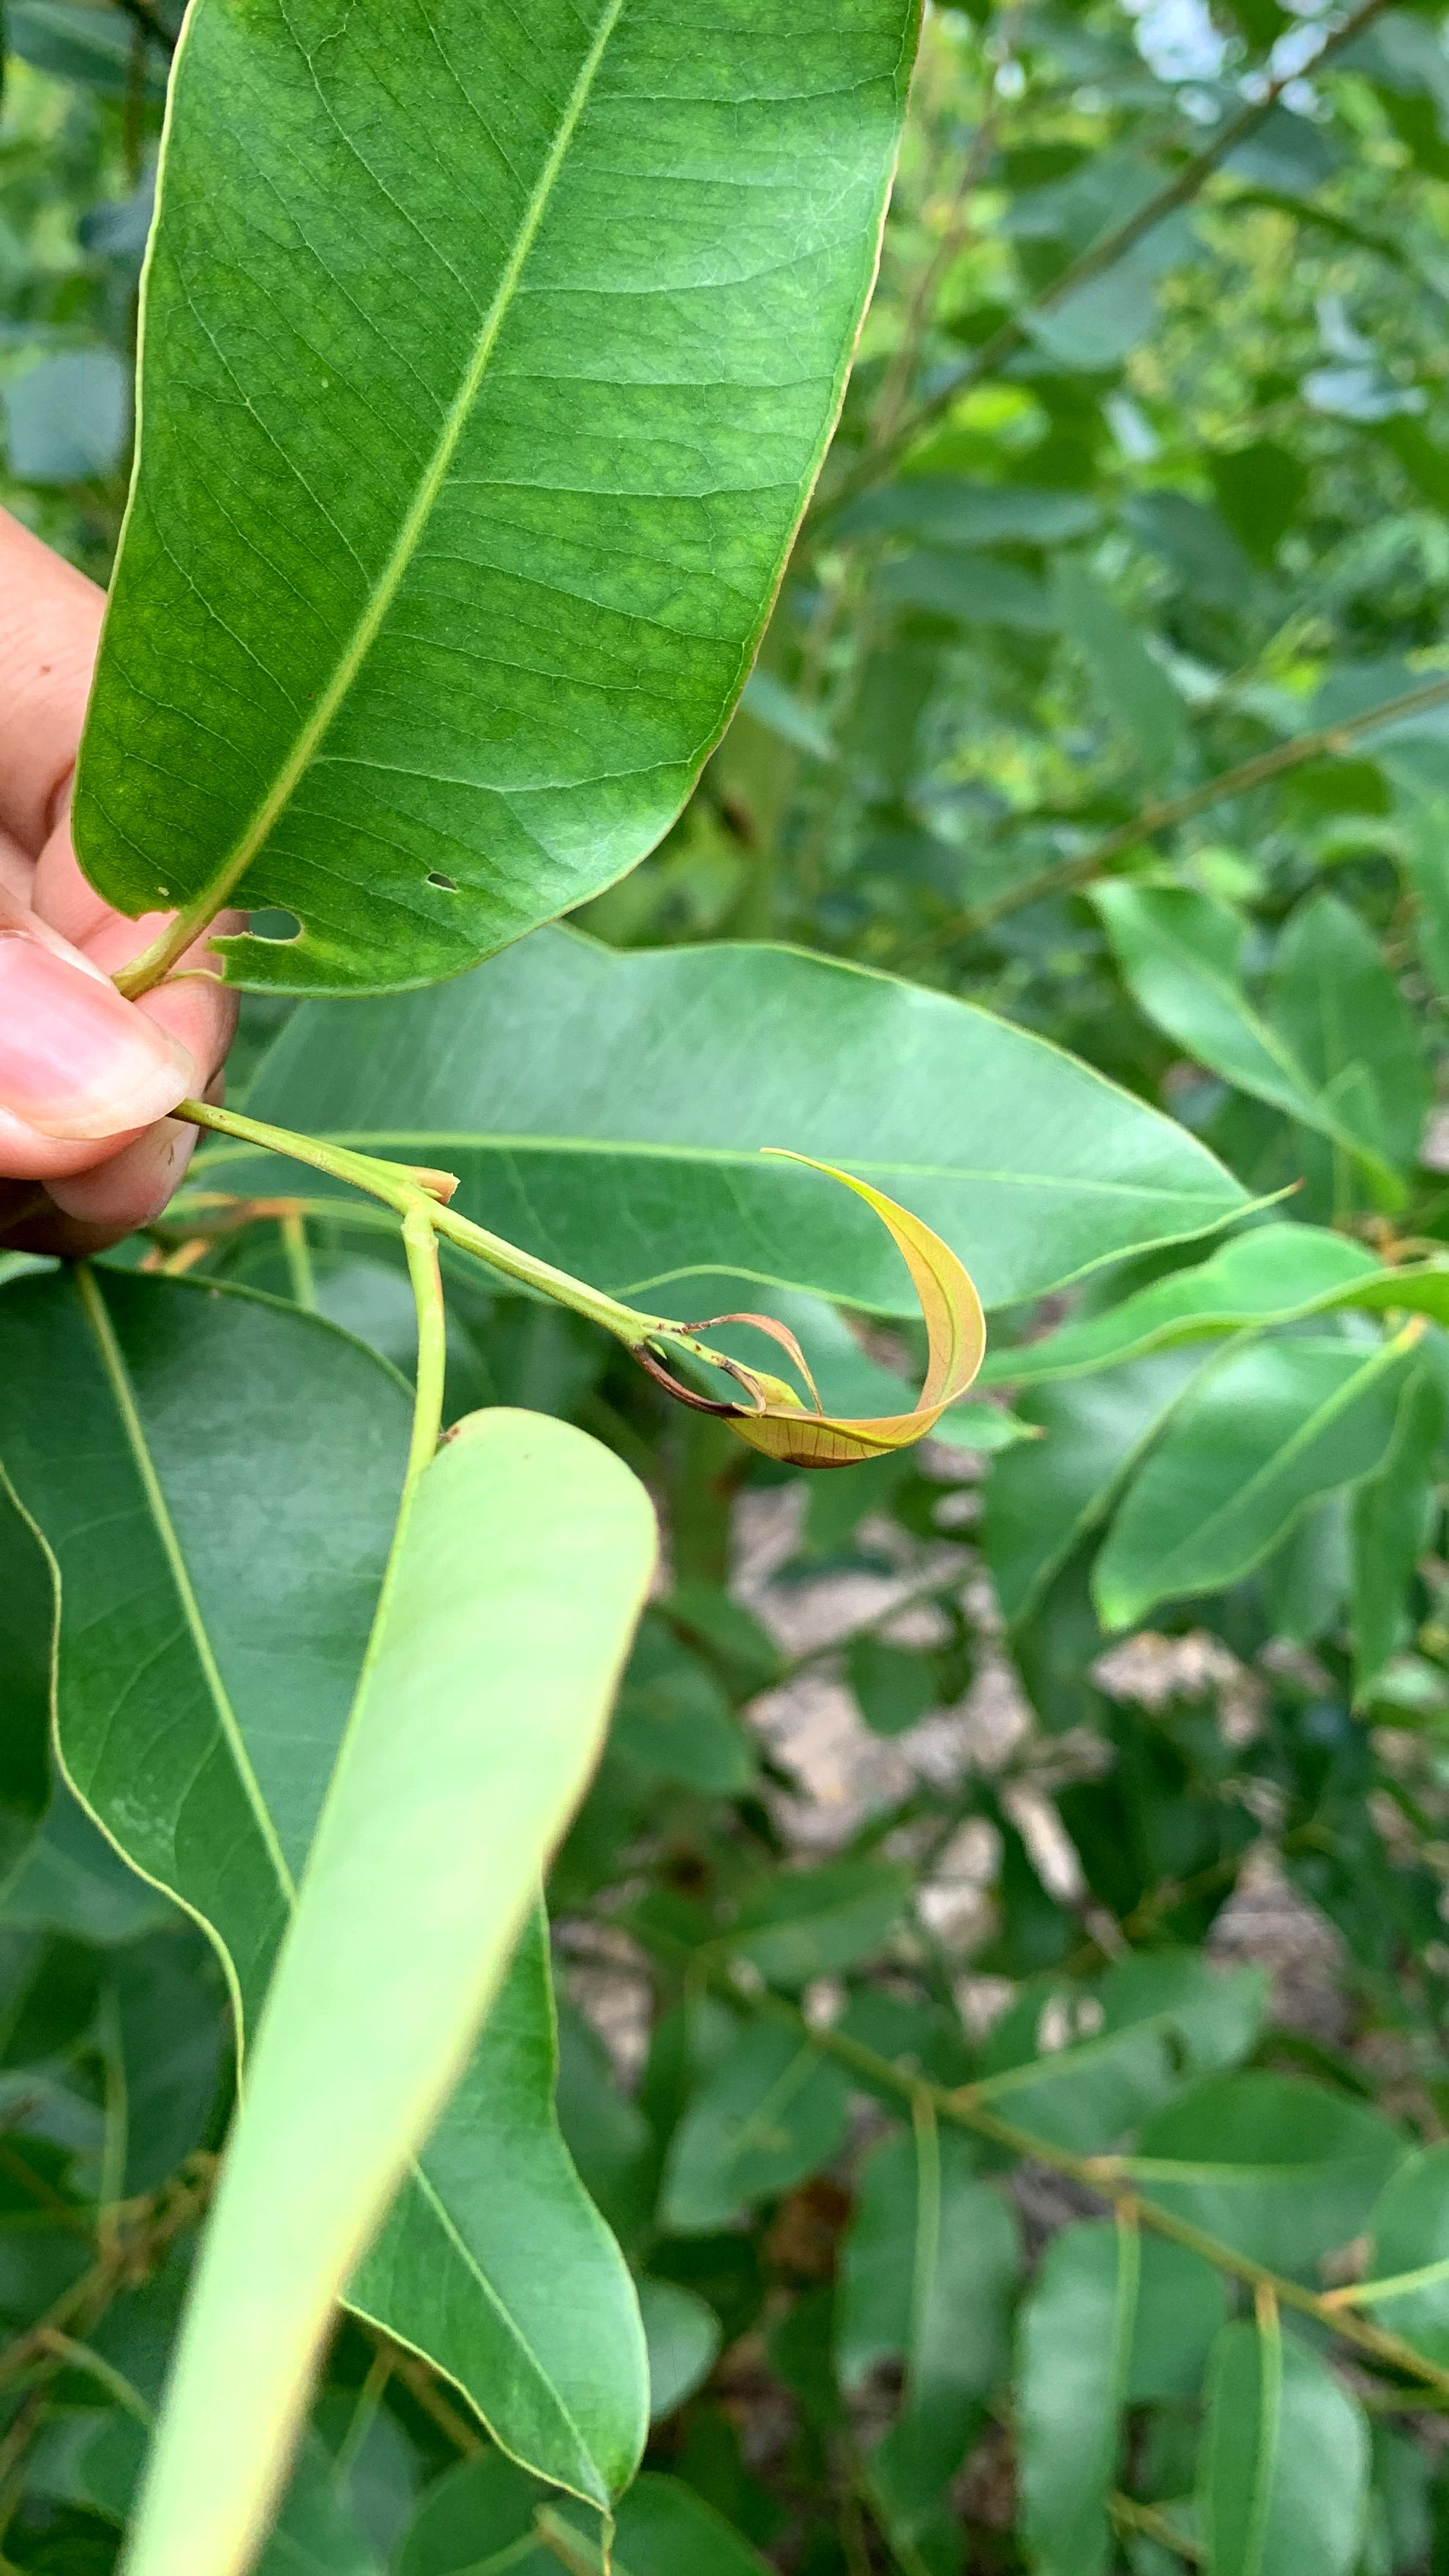Helopeltis-Withered Sprout: (593, 1136, 1063, 1559)
